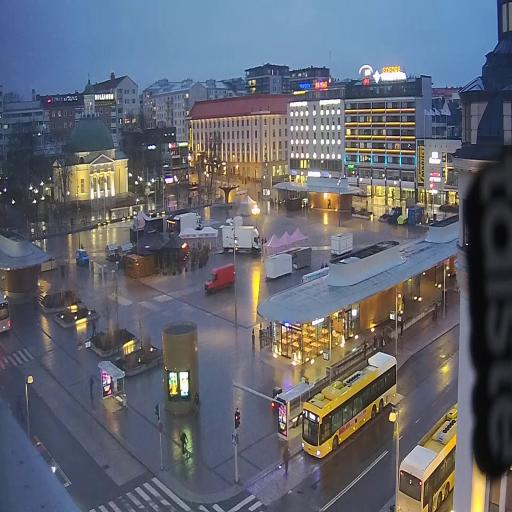bus: (296, 345, 401, 466), (390, 392, 462, 511), (0, 285, 14, 337)
car: (30, 434, 64, 482)
delivery: (221, 222, 262, 256), (203, 260, 237, 300), (170, 209, 203, 238), (74, 246, 92, 274), (221, 212, 246, 229)
two-wheels: (177, 427, 192, 471)
